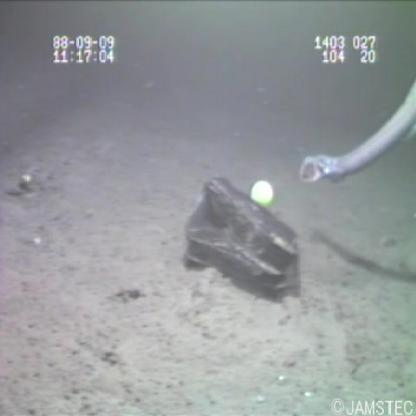Bio: (298, 72, 416, 190)
Rác: (176, 171, 301, 299)
